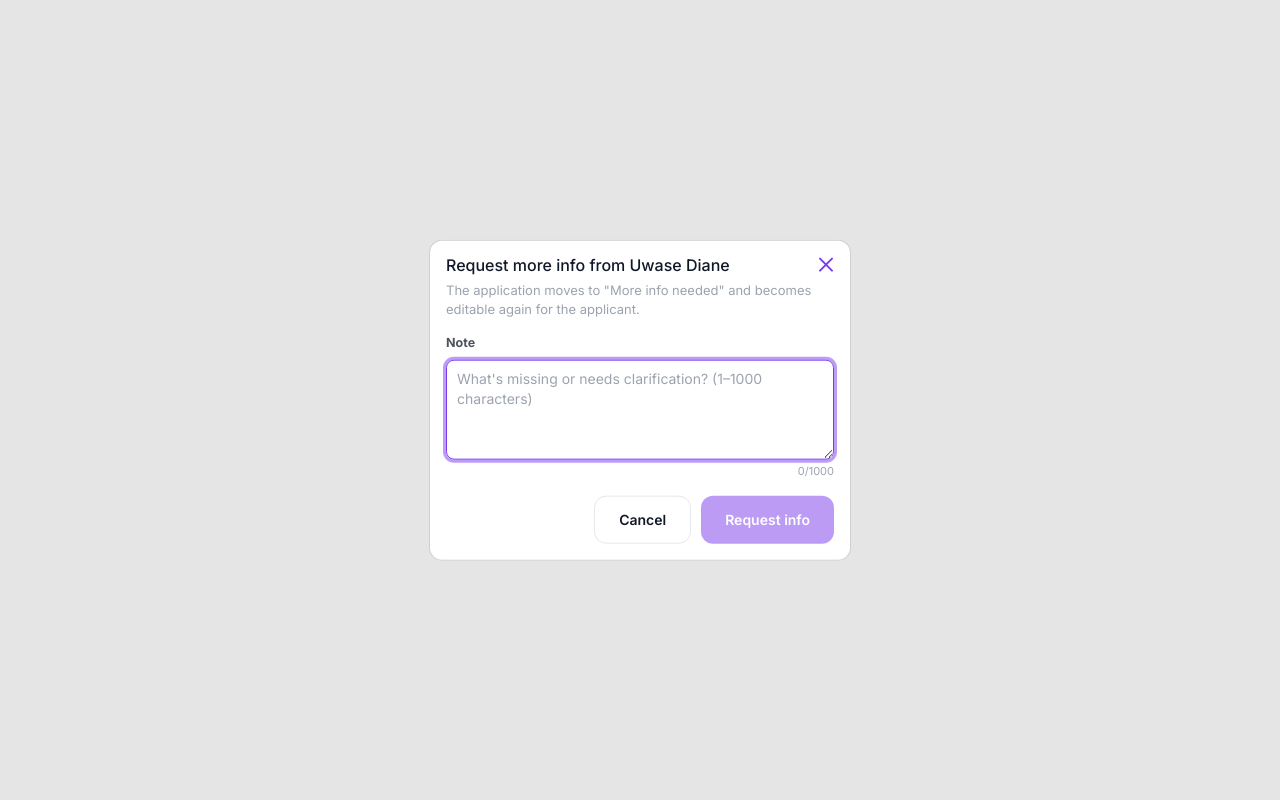
Test: RequestInfoDialog › disables the Request info button until a note is entered
The width and height of the screenshot is (1280, 800).
expect the button "Request info" is disabled: met, box x1=701 y1=495 x2=834 y2=543
Type "Please upload a clearer copy of your license." into the text box with placeholder "What's missing or needs clarification? (1–1000 characters)".
click(640, 410); type("Please upload a clearer copy of your license.")  # box x1=446 y1=360 x2=834 y2=460
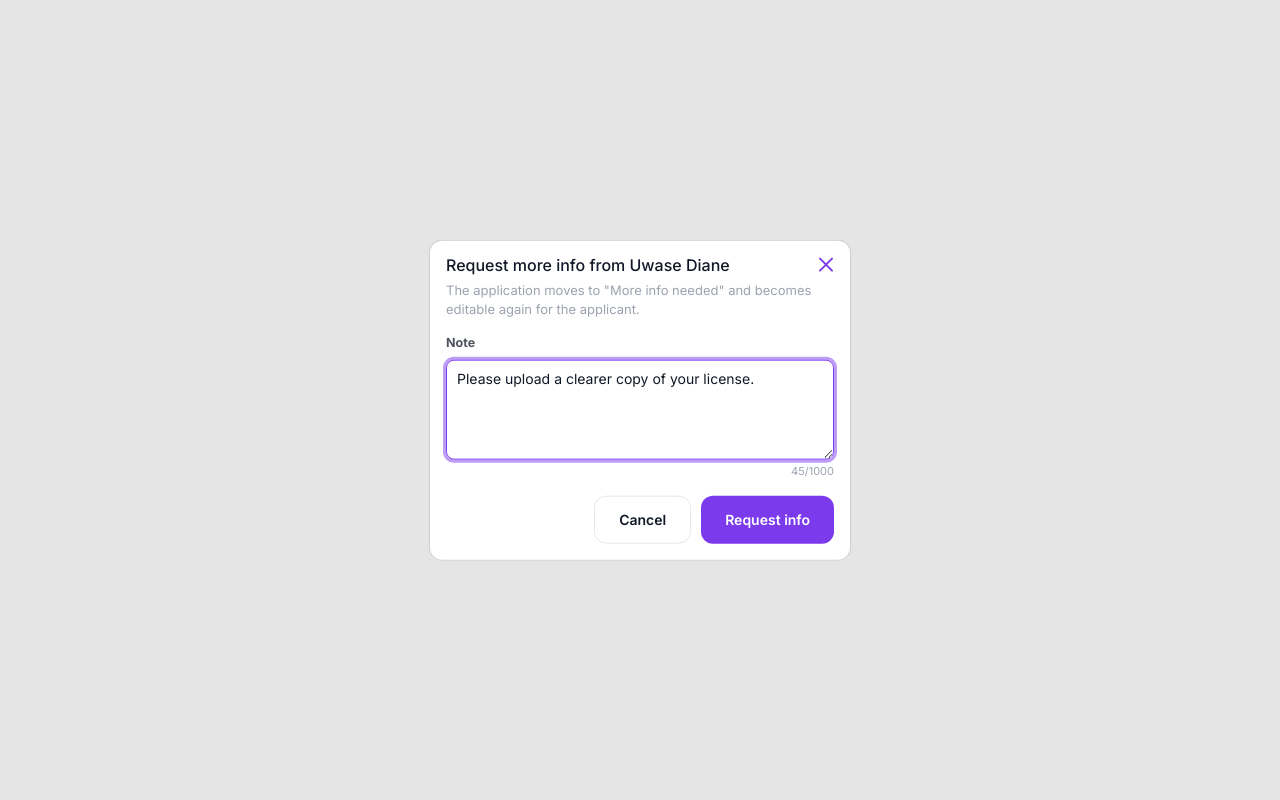
expect the button "Request info" is enabled: met, box x1=701 y1=495 x2=834 y2=543
